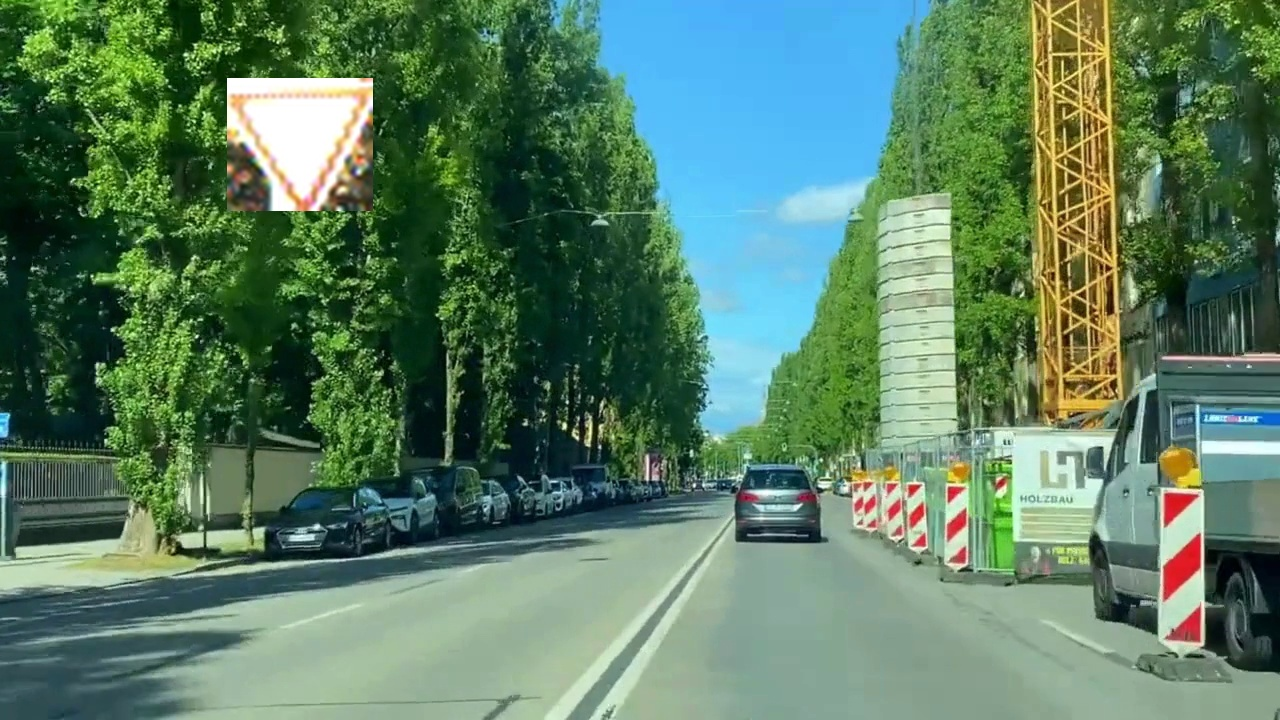Yield: (227, 78, 373, 211)
